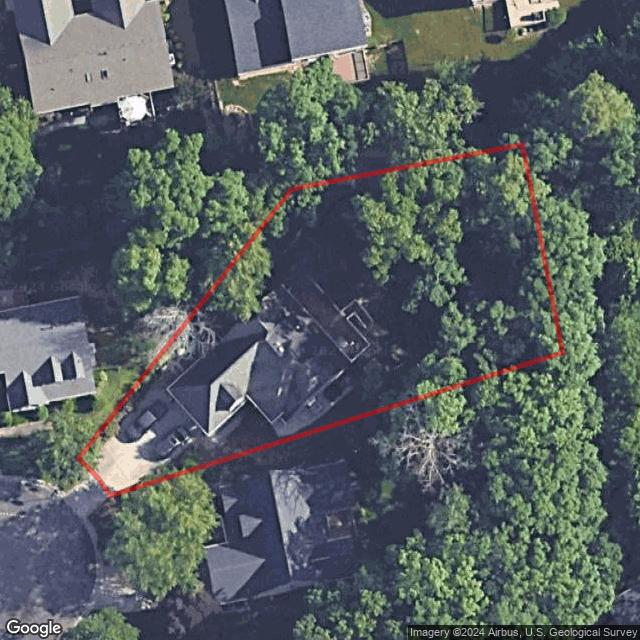Driveway: (85, 384, 205, 495)
Extra-Driveway: (57, 464, 111, 516)
Extra-Lawn: (48, 457, 86, 489)
House: (167, 285, 347, 436)
Lawn: (79, 144, 562, 495)
Other: (282, 263, 376, 366), (149, 307, 227, 388)
Sidewalk: (197, 401, 257, 450)
